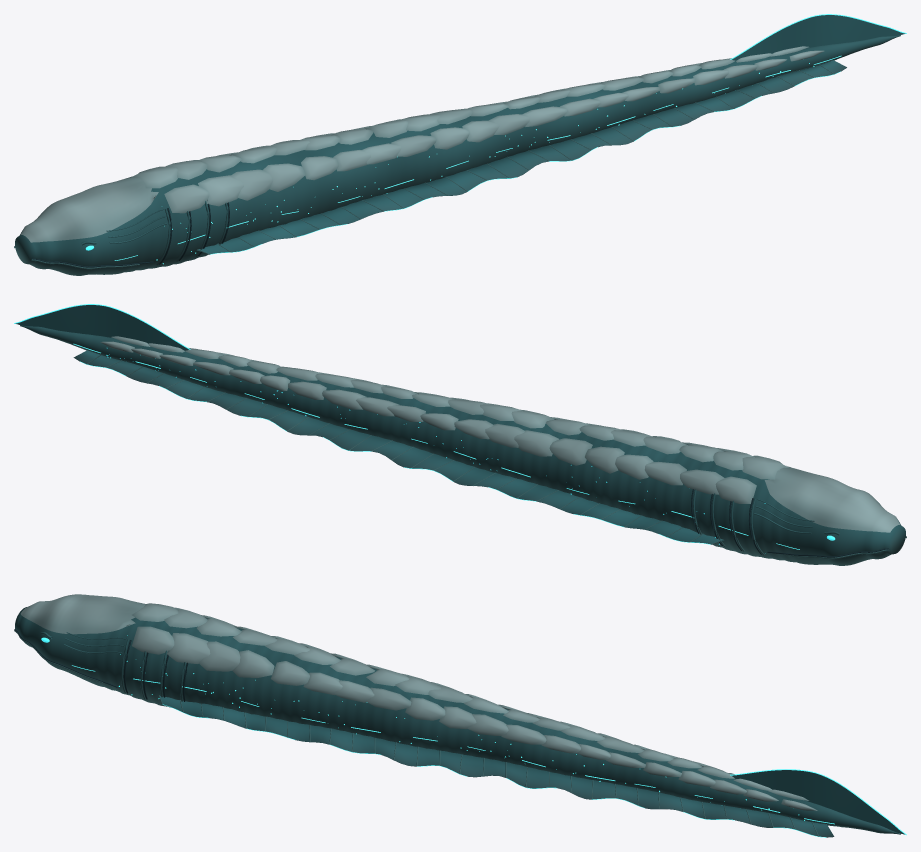
File: nacre-leviathan-v2.glb
3 renders of one model, top to bottom at view 1: azimuth 30°, elevation 25°; view 2: azimuth 150°, elevation 25°; view 3: azimuth 330°, elevation 25°, orthographic.
Visible parts, largest first — view 1: Living deep teal / wet hide, Nacre / overlapping dorsal shields, Translucent-looking teal / solid fin membranes, Cyan living photophores, Deep inset / mouth and gills; view 2: Living deep teal / wet hide, Nacre / overlapping dorsal shields, Translucent-looking teal / solid fin membranes, Cyan living photophores, Deep inset / mouth and gills; view 3: Living deep teal / wet hide, Nacre / overlapping dorsal shields, Translucent-looking teal / solid fin membranes, Cyan living photophores, Deep inset / mouth and gills.
Boxes of the visible parts, bbox=[...] form: Living deep teal / wet hide: bbox=[14, 35, 900, 275]; Nacre / overlapping dorsal shields: bbox=[20, 46, 824, 242]; Translucent-looking teal / solid fin membranes: bbox=[197, 15, 905, 254]; Cyan living photophores: bbox=[85, 14, 906, 264]; Deep inset / mouth and gills: bbox=[14, 200, 229, 267]; Living deep teal / wet hide: bbox=[20, 325, 906, 565]; Nacre / overlapping dorsal shields: bbox=[100, 336, 900, 532]; Translucent-looking teal / solid fin membranes: bbox=[15, 305, 723, 544]; Cyan living photophores: bbox=[14, 304, 835, 553]; Deep inset / mouth and gills: bbox=[691, 489, 906, 557]; Living deep teal / wet hide: bbox=[14, 607, 900, 836]; Nacre / overlapping dorsal shields: bbox=[20, 594, 817, 810]; Translucent-looking teal / solid fin membranes: bbox=[160, 696, 904, 837]; Cyan living photophores: bbox=[41, 635, 906, 837]; Deep inset / mouth and gills: bbox=[14, 629, 188, 701].
Size of the model in its own units: 282 by 28.27 by 30.76.
